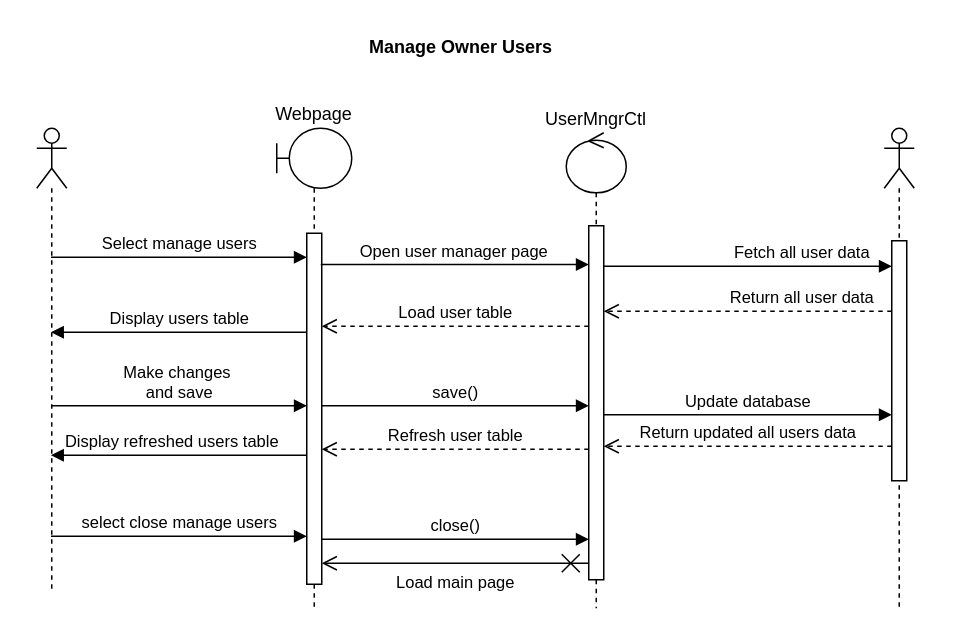
Image size: 963x635. Some labels were removed from this diagram. The box of each missing label's shape, as (x1, y1, x2, y2) in pixels:
Database: (883, 127, 914, 608)
Owner: (35, 127, 67, 593)
